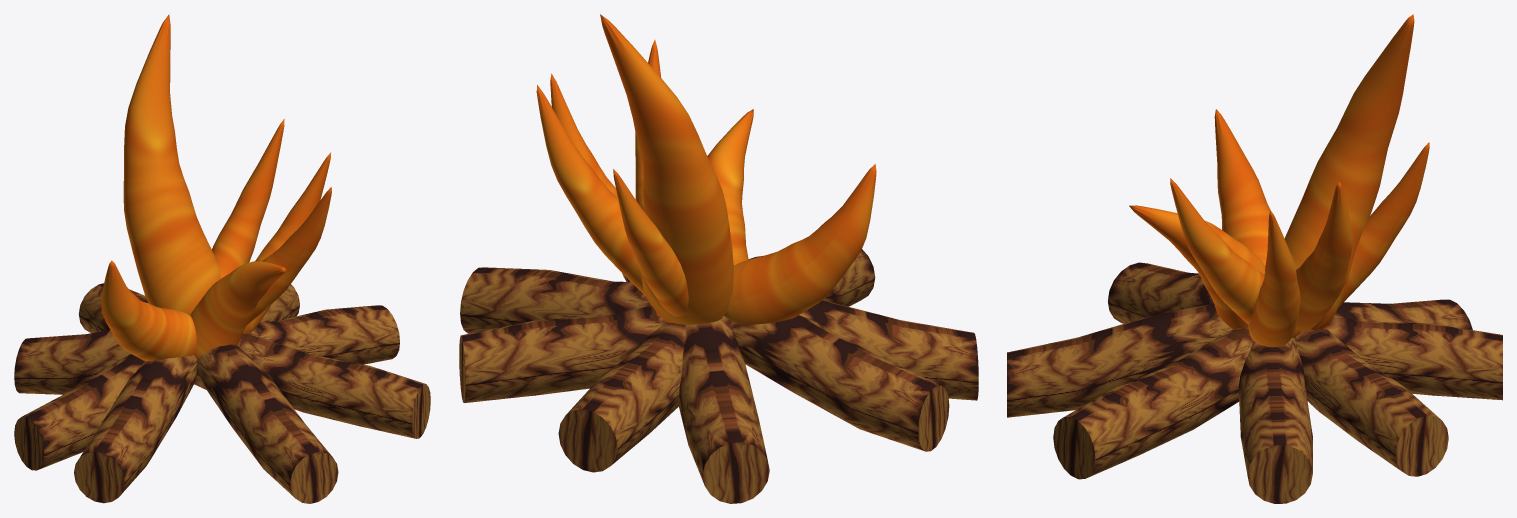
The model's file is fogata.fbx.
3 renders of one model, left to right at view 1: azimuth 30°, elevation 25°; view 2: azimuth 150°, elevation 25°; view 3: azimuth 270°, elevation 25°, orthographic. The views are drawn at different scales.
Parts seen in each view (by area): view 1: Cylinder004, Cylinder007, Cylinder002, Cylinder001, Cylinder003, Cylinder005, Cylinder006, Cylinder011, Cylinder008, Cylinder010; view 2: Cylinder002, Cylinder003, Cylinder007, Cylinder001, Cylinder004, Cylinder005, Cylinder011, Cylinder009, Cylinder006, Cylinder010, Cylinder008; view 3: Cylinder001, Cylinder004, Cylinder003, Cylinder007, Cylinder002, Cylinder005, Cylinder008, Cylinder011, Cylinder010, Cylinder009, Cylinder006.
Part boxes in pixels (x1,y1,x2,y2): Cylinder004: (14,330,430,438); Cylinder007: (123,14,220,314); Cylinder002: (14,305,399,470); Cylinder001: (78,283,338,503); Cylinder003: (74,284,299,503); Cylinder005: (101,260,196,361); Cylinder006: (190,261,285,359); Cylinder011: (211,119,284,278); Cylinder008: (247,187,331,324); Cylinder010: (243,152,330,333); Cylinder002: (460,267,949,451); Cylinder003: (459,300,978,402); Cylinder007: (600,14,733,324); Cylinder001: (558,249,875,472); Cylinder004: (622,273,769,503); Cylinder005: (724,164,876,324); Cylinder011: (536,85,645,295); Cylinder009: (613,169,688,316); Cylinder006: (707,109,753,265); Cylinder010: (550,73,617,197); Cylinder008: (635,40,661,211); Cylinder001: (1007,303,1502,417); Cylinder004: (1053,299,1472,479); Cylinder003: (1108,262,1448,476); Cylinder007: (1284,14,1414,330); Cylinder002: (1238,338,1312,503); Cylinder005: (1214,109,1270,265); Cylinder008: (1170,178,1301,337); Cylinder011: (1296,181,1352,332); Cylinder010: (1248,210,1300,347); Cylinder009: (1339,142,1429,306); Cylinder006: (1129,205,1265,329).
Size of the model in its own units: 333 by 309 by 331.
Materials: 2 (2 with a texture image).
